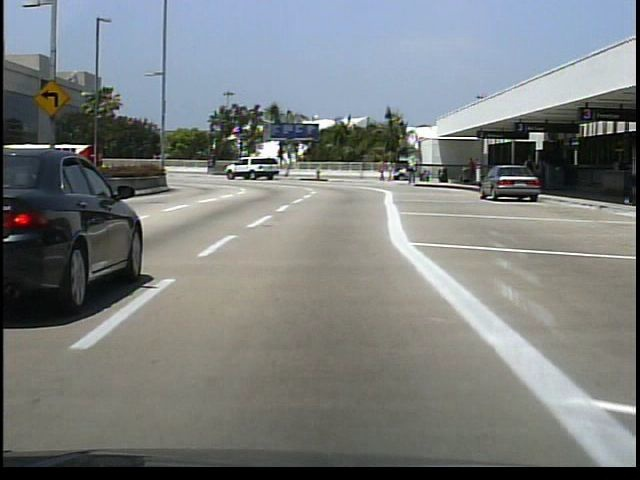person: (521, 151, 541, 197), (465, 157, 478, 188), (408, 153, 418, 187), (378, 157, 387, 183), (387, 157, 395, 182)
